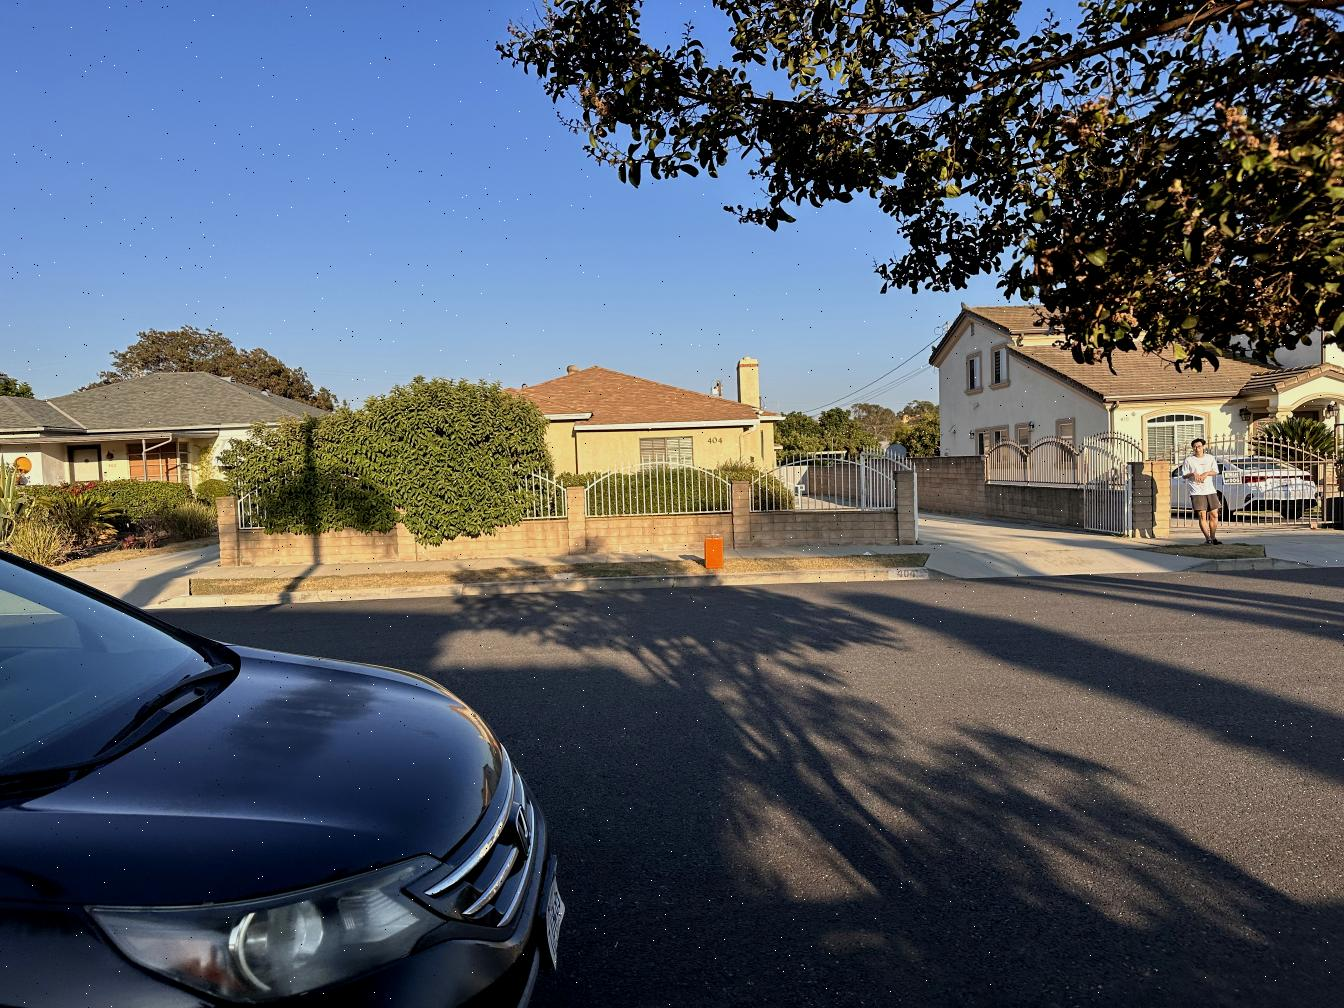curbs-laRr: (467, 573, 723, 601), (726, 565, 918, 592), (319, 580, 462, 607), (188, 590, 313, 610)
orange box: (704, 536, 723, 570)
